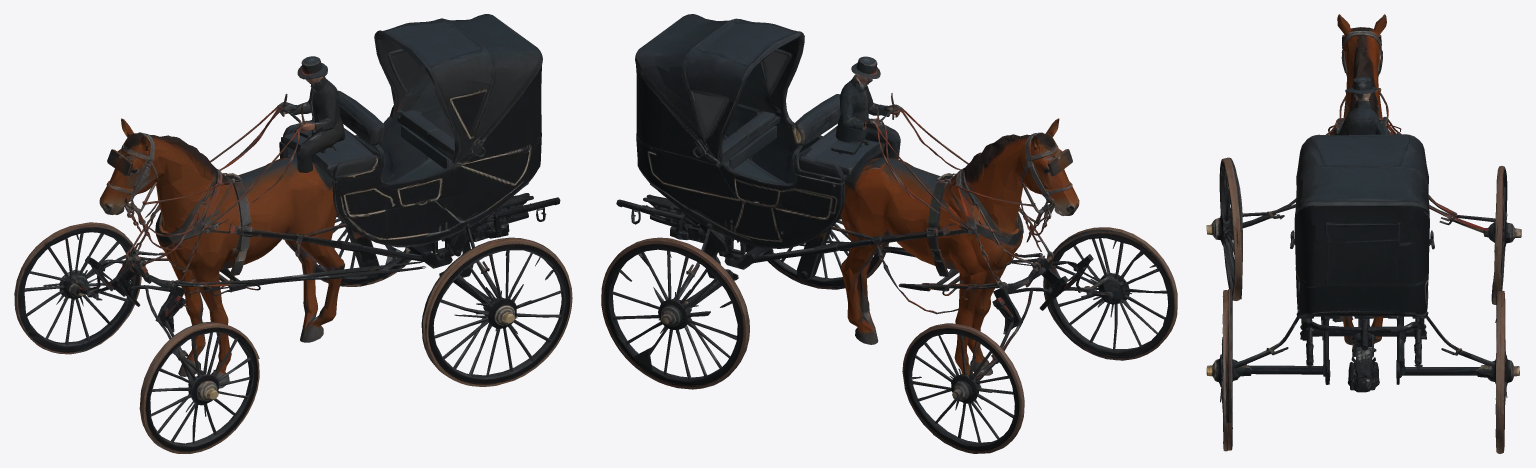
File: fiacre.glb
3 views of the same model, side by side, from view 1: azimuth 30°, elevation 25°; view 2: azimuth 150°, elevation 25°; view 3: azimuth 270°, elevation 25° (orthographic).
Bounding box in the file's own units: 1.9 × 1.21 × 1.12.
1 material, 1 textured.
